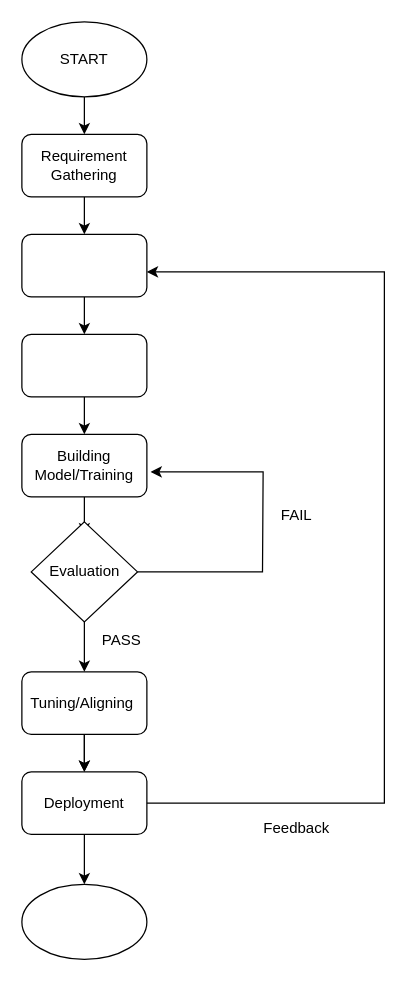
Image size: 416x981. Some labels were removed from this diagram. Each missing label, with the centre of its shape:
"Data Preprocessing" belongs at (x=84, y=265).
"Design" belongs at (x=84, y=365).
"END" belongs at (x=84, y=921).
